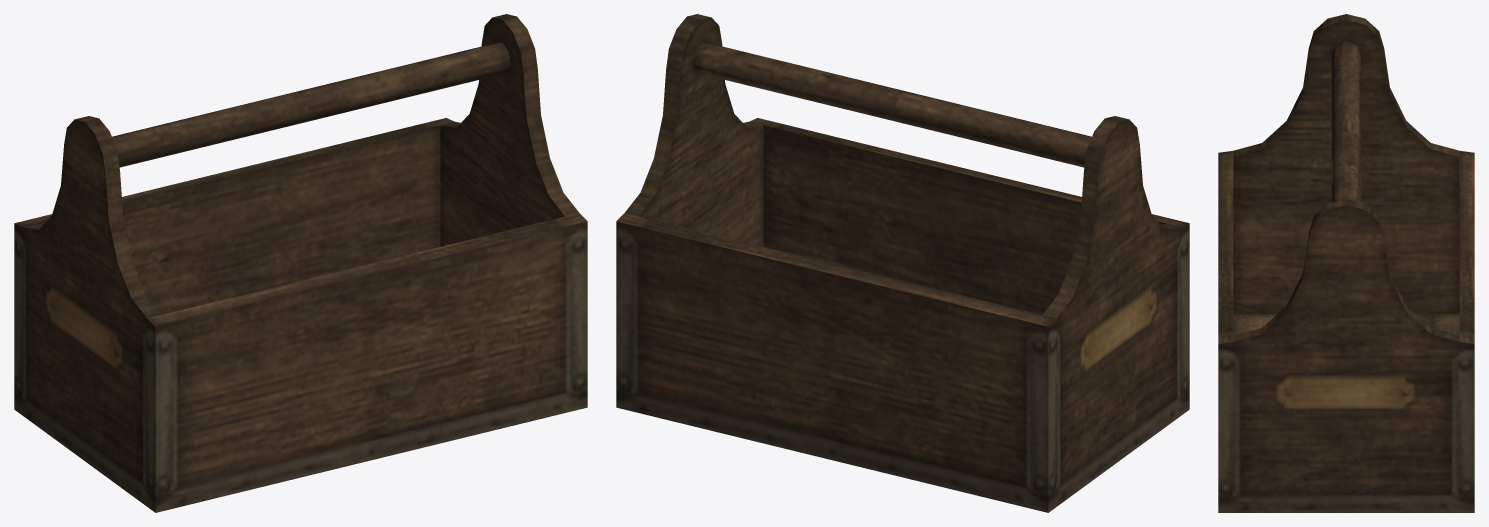
The model's file is toolbox_mx_1.obj.
3 renders of one model, left to right at view 1: azimuth 30°, elevation 25°; view 2: azimuth 150°, elevation 25°; view 3: azimuth 270°, elevation 25°, orthographic. The views are drawn at different scales.
Visible parts, largest first — view 1: toolbox_mx_1; view 2: toolbox_mx_1; view 3: toolbox_mx_1.
Boxes of the visible parts, x1,y1,x2,y2 form: toolbox_mx_1: [14, 14, 587, 512]; toolbox_mx_1: [616, 14, 1189, 512]; toolbox_mx_1: [1218, 14, 1474, 512].
Size of the model in its own units: 0.6 by 0.45 by 0.34.
